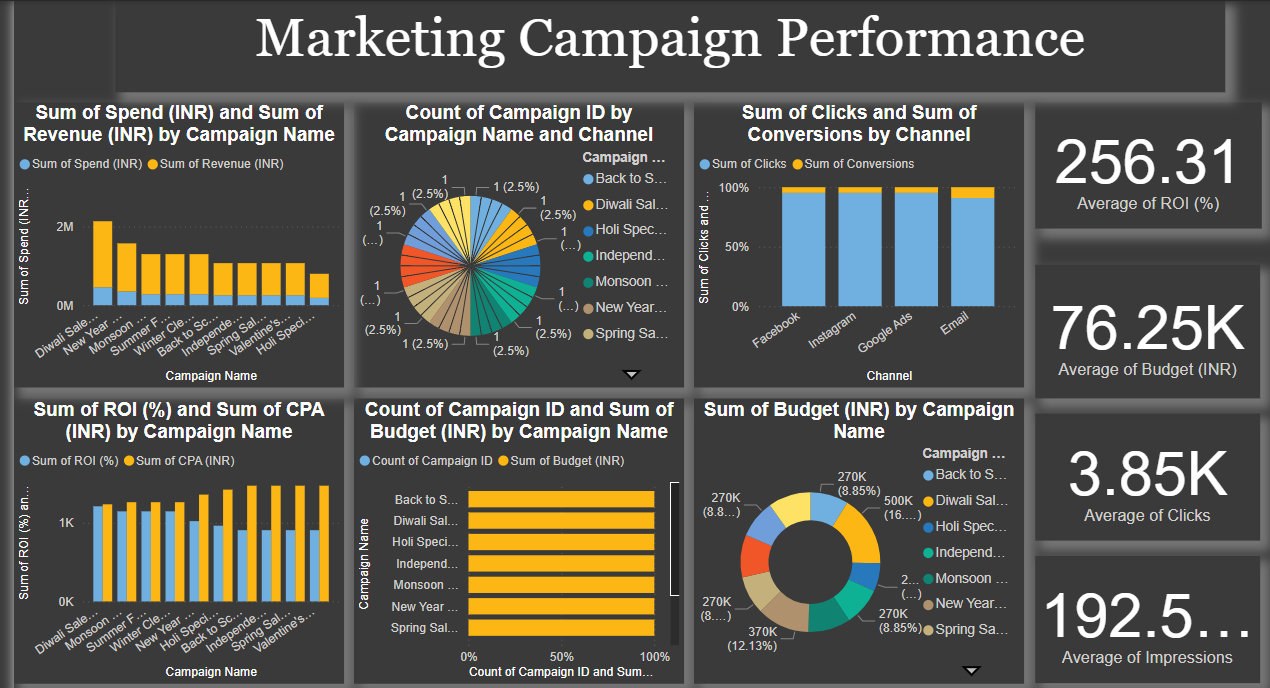

This screenshot's page, from the dashboard's own definition file:
{"tool":"powerbi","page":{"name":"Page 1","canvas":[1280,720],"ordinal":0},"visuals":[{"type":"lineClusteredColumnComboChart","fields":{"Category":["Sheet1.Campaign Name"],"Y":["Sum(Sheet1.ROI (%))","Sum(Sheet1.CPA (INR))"]},"box":[0,390,324,280],"z":0},{"type":"pieChart","fields":{"Y":["CountNonNull(Sheet1.Campaign ID)"],"Category":["Sheet1.Campaign Name"],"Series":["Sheet1.Channel"]},"box":[334,100,324,280],"z":1000},{"type":"hundredPercentStackedBarChart","fields":{"Y":["CountNonNull(Sheet1.Campaign ID)","Sum(Sheet1.Budget (INR))"],"Category":["Sheet1.Campaign Name"]},"box":[334,390,324,280],"z":2000},{"type":"hundredPercentStackedColumnChart","fields":{"Category":["Sheet1.Channel"],"Y":["Sum(Sheet1.Clicks)","Sum(Sheet1.Conversions)"]},"box":[668,100,324,280],"z":3000},{"type":"donutChart","fields":{"Category":["Sheet1.Campaign Name","Sheet1.Start Date.Variation.Date Hierarchy.Year","Sheet1.Start Date.Variation.Date Hierarchy.Month","Sheet1.Start Date.Variation.Date Hierarchy.Day","Sheet1.End Date.Variation.Date Hierarchy.Year","Sheet1.End Date.Variation.Date Hierarchy.Month","Sheet1.End Date.Variation.Date Hierarchy.Day"],"Y":["Sum(Sheet1.Budget (INR))"]},"box":[668,390,324,280],"z":4000},{"type":"card","fields":{"Values":["Avg(Sheet1.ROI (%))"]},"box":[1002.5,99.4,222.1,123.9],"z":5000},{"type":"card","fields":{"Values":["Avg(Sheet1.Budget (INR))"]},"box":[1002.5,258.9,220.9,131.3],"z":6000},{"type":"card","fields":{"Values":["Avg(Sheet1.Clicks)"]},"box":[1002.5,404.9,220.9,125.2],"z":7000},{"type":"card","fields":{"Values":["Avg(Sheet1.Impressions)"]},"box":[1002.5,544.8,220.9,125.2],"z":8000},{"type":"columnChart","fields":{"Category":["Sheet1.Campaign Name"],"Y":["Sum(Sheet1.Spend (INR))","Sum(Sheet1.Revenue (INR))"]},"box":[0,100,324,280],"z":9000},{"type":"textbox","box":[99.4,0,1089.6,89.6],"z":9001}]}

Visuals, with their boxes on the page's 1280x720 design canvas (x1, y1, x2, y2). These are canvas units, not pixel positions in the 1270x688 screenshot, which may show the page scaled, cropped or inside an application window:
lineClusteredColumnComboChart - Sheet1.Campaign Name x Sum(Sheet1.ROI (%)): [0, 390, 324, 670]
pieChart - CountNonNull(Sheet1.Campaign ID) x Sheet1.Campaign Name: [334, 100, 658, 380]
hundredPercentStackedBarChart - CountNonNull(Sheet1.Campaign ID) x Sum(Sheet1.Budget (INR)): [334, 390, 658, 670]
hundredPercentStackedColumnChart - Sheet1.Channel x Sum(Sheet1.Clicks): [668, 100, 992, 380]
donutChart - Sheet1.Campaign Name x Sheet1.Start Date.Variation.Date Hierarchy.Year: [668, 390, 992, 670]
card - Avg(Sheet1.ROI (%)): [1002, 99, 1225, 223]
card - Avg(Sheet1.Budget (INR)): [1002, 259, 1223, 390]
card - Avg(Sheet1.Clicks): [1002, 405, 1223, 530]
card - Avg(Sheet1.Impressions): [1002, 545, 1223, 670]
columnChart - Sheet1.Campaign Name x Sum(Sheet1.Spend (INR)): [0, 100, 324, 380]
textbox: [99, 0, 1189, 90]
